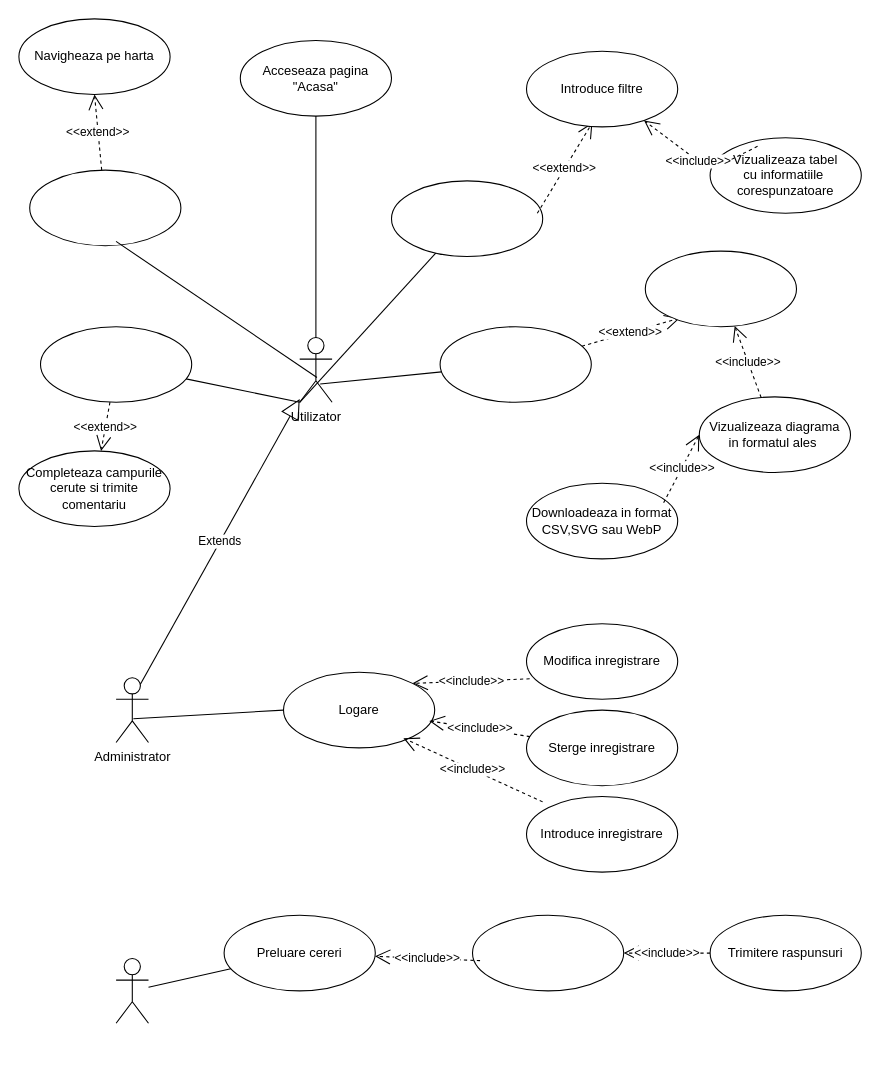
The diagram is 880 pixels wide and 1065 high, and some of its shapes have lost their labels. Each missing label, with the centre of its shape:
Acceseaza pagina "Contact": point (115, 364)
Acceseaza pagina "Harta": point (105, 207)
Acceseaza pagina "Vizualizare informatii": point (466, 218)
Acceseaza pagina "Vizualizare statistici": point (515, 364)
Aplicatia web: point (131, 990)
Introduce filtre si alege modul dorit de vizualizare: point (720, 288)
Rezolvare cereri: point (547, 952)
